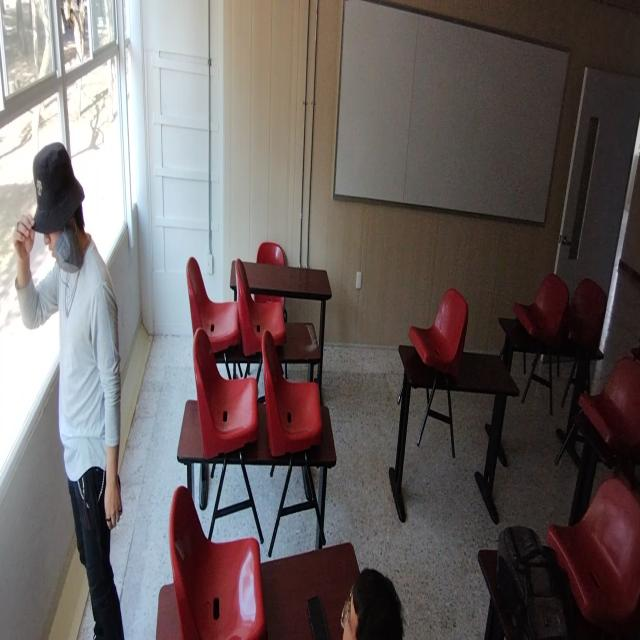adult: (13, 138, 128, 640), (338, 571, 404, 640)
